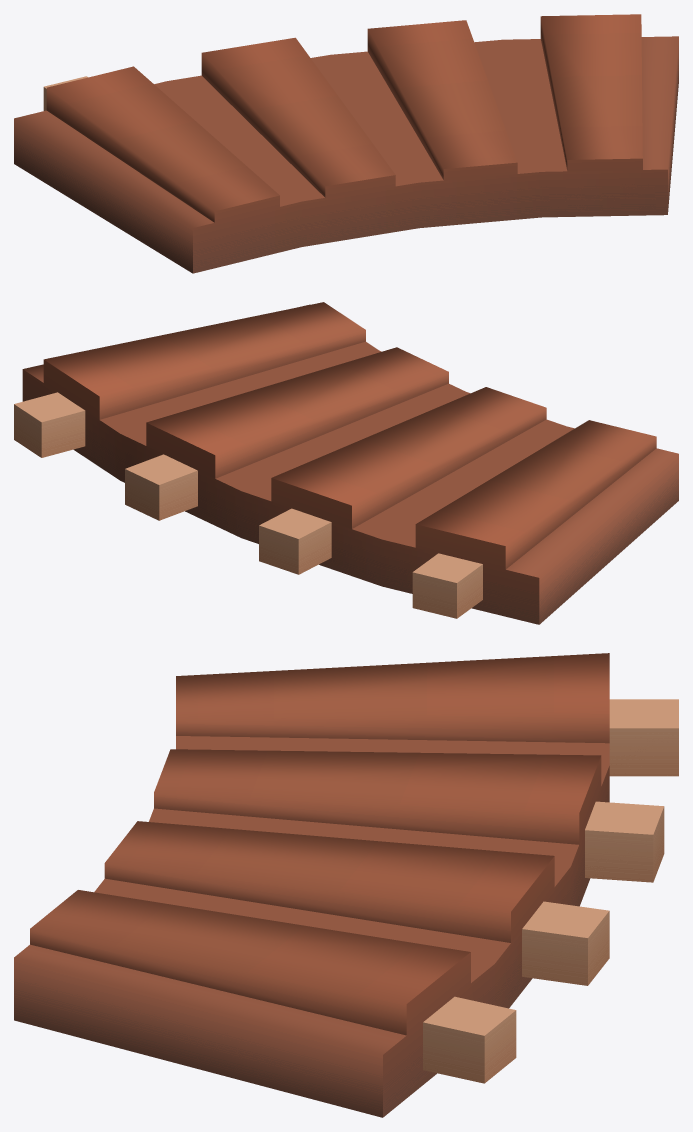
File: meat-ribs.glb
The picture shows the model from 3 angles, top to bottom: view 1: azimuth 30°, elevation 25°; view 2: azimuth 150°, elevation 25°; view 3: azimuth 270°, elevation 25°; orthographic projection. The views are drawn at different scales.
Visible parts, largest first — view 1: meat-ribs; view 2: meat-ribs; view 3: meat-ribs.
Part boxes in pixels (box(x1,y1,x2,y2)): meat-ribs: box(14, 14, 678, 273); meat-ribs: box(14, 302, 678, 624); meat-ribs: box(14, 653, 678, 1117).
Size of the model in its own units: 0.5354 by 0.06 by 0.3834.
Materials: 1 (1 with a texture image).
